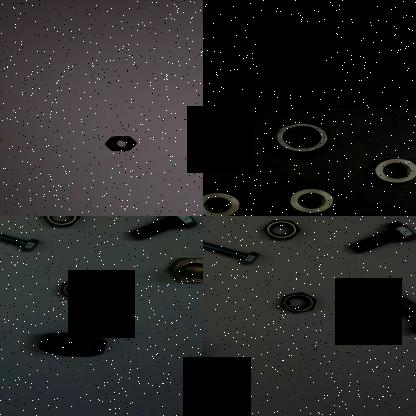Bolts: (342, 219, 416, 257), (374, 286, 416, 341), (203, 235, 262, 271), (130, 216, 203, 245), (156, 254, 203, 284), (0, 222, 41, 252)
NUTS: (267, 118, 339, 156), (34, 330, 115, 360), (284, 184, 346, 216), (367, 152, 416, 188), (258, 216, 310, 247), (274, 290, 332, 316), (56, 274, 106, 304), (203, 188, 249, 216), (105, 132, 141, 153), (39, 216, 87, 227)
